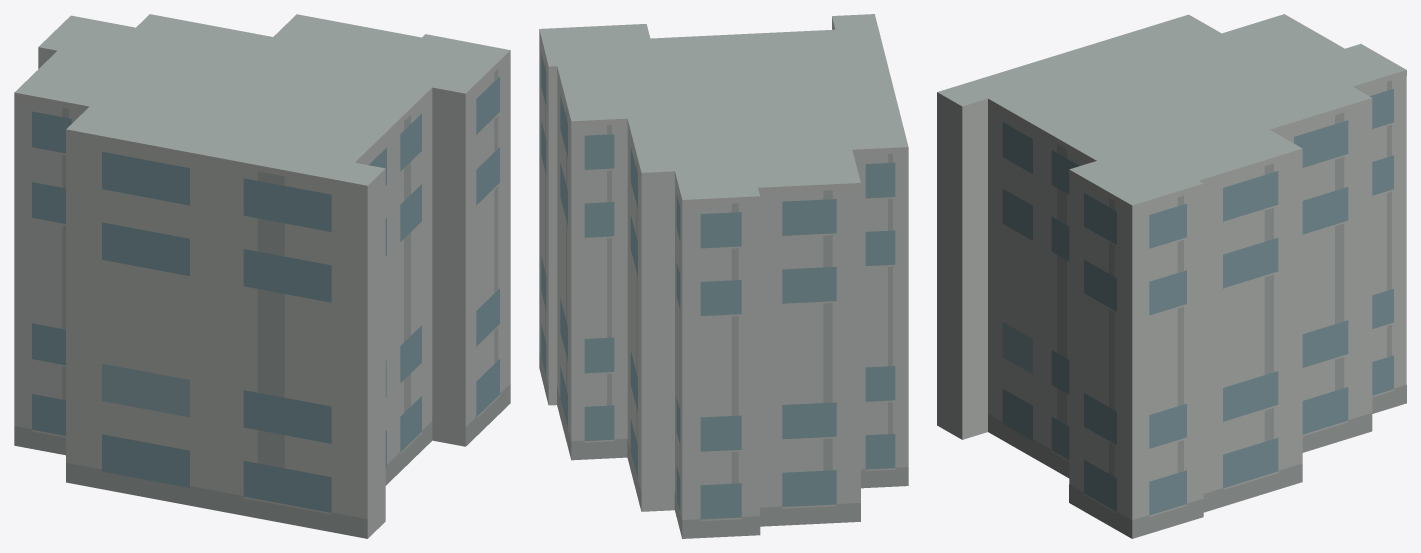
The model's file is survey-upis-32773991.glb.
3 views of the same model, side by side, from view 1: azimuth 30°, elevation 25°; view 2: azimuth 150°, elevation 25°; view 3: azimuth 270°, elevation 25° (orthographic). The views are drawn at different scales.
Parts seen in each view (by area): view 1: survey-upis-32773991.tmp; view 2: survey-upis-32773991.tmp; view 3: survey-upis-32773991.tmp.
Boxes of the visible parts, x1=… form: survey-upis-32773991.tmp: x1=14, y1=14, x2=510, y2=538; survey-upis-32773991.tmp: x1=539, y1=14, x2=908, y2=538; survey-upis-32773991.tmp: x1=937, y1=14, x2=1406, y2=538.
Size of the model in its own units: 17.13 by 13.9 by 17.75.
